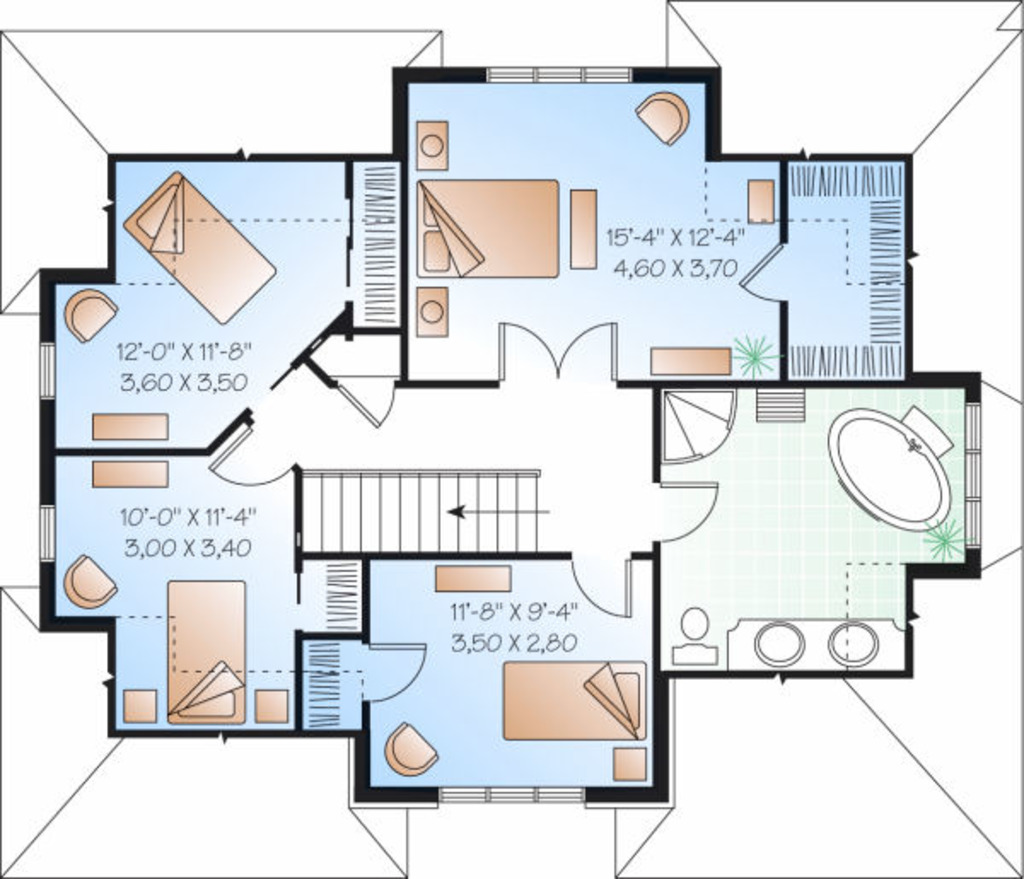bed: (124, 159, 292, 330), (408, 171, 568, 278), (156, 563, 253, 723), (492, 650, 653, 745)
door: (495, 322, 617, 389), (208, 422, 292, 487), (571, 551, 640, 622), (652, 475, 721, 541), (328, 369, 403, 429), (364, 638, 429, 706), (733, 237, 795, 306)
large_sink: (668, 602, 725, 666)
small_sink: (729, 619, 908, 674)
stairs: (297, 465, 563, 559)
window: (957, 399, 992, 551), (480, 58, 635, 87), (433, 786, 593, 806), (35, 498, 61, 565), (37, 343, 57, 399)
